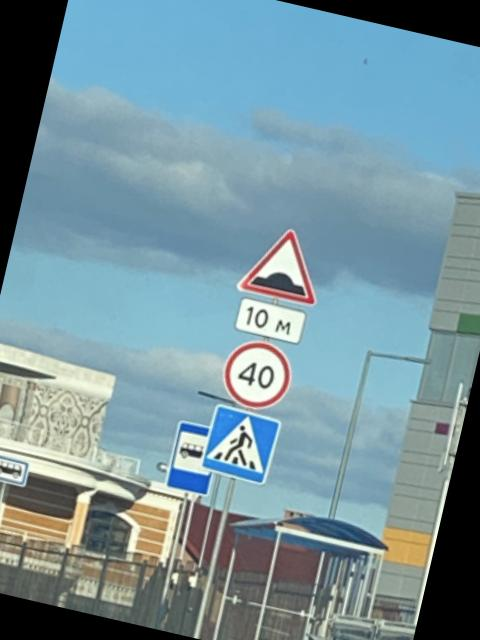crosswalk-sign: (199, 400, 283, 486)
